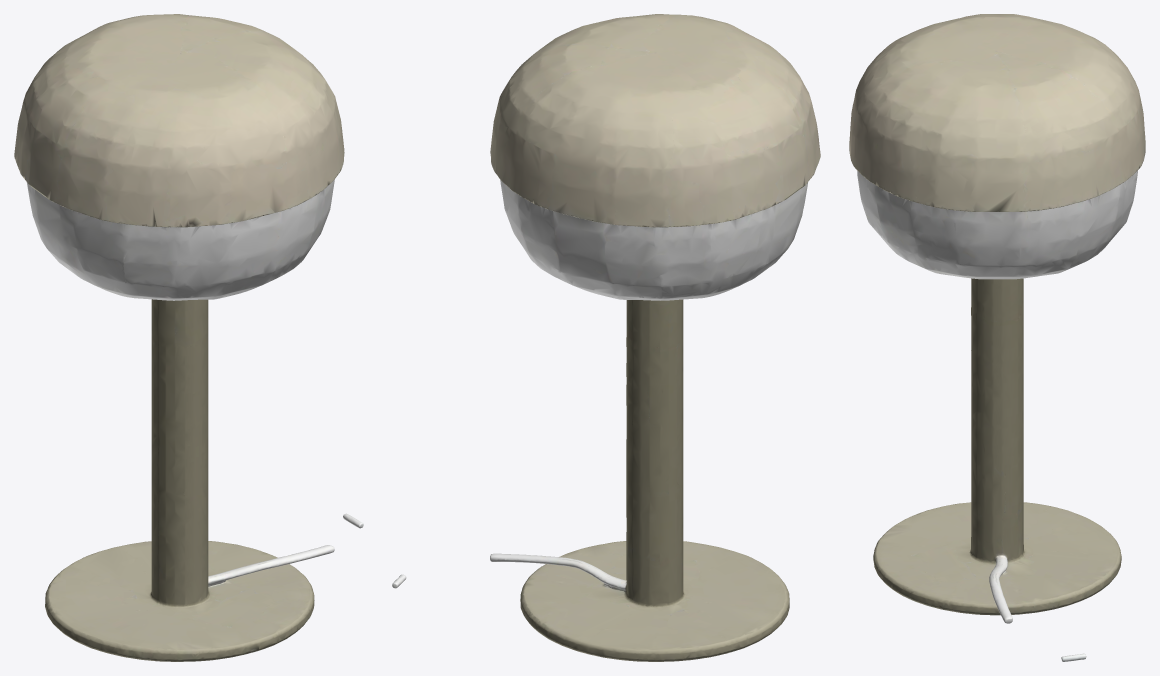
File: lamp.glb
3 renders of one model, left to right at view 1: azimuth 30°, elevation 25°; view 2: azimuth 150°, elevation 25°; view 3: azimuth 270°, elevation 25°, orthographic. The views are drawn at different scales.
Bounding box in the file's own units: 1.29 × 1.9 × 0.9946.
1 material, 1 textured.
